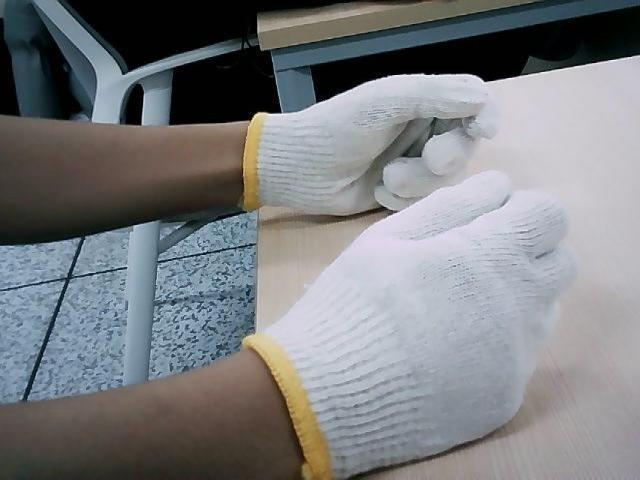Hand-in-Glove: (242, 219, 573, 480), (240, 76, 499, 220)
